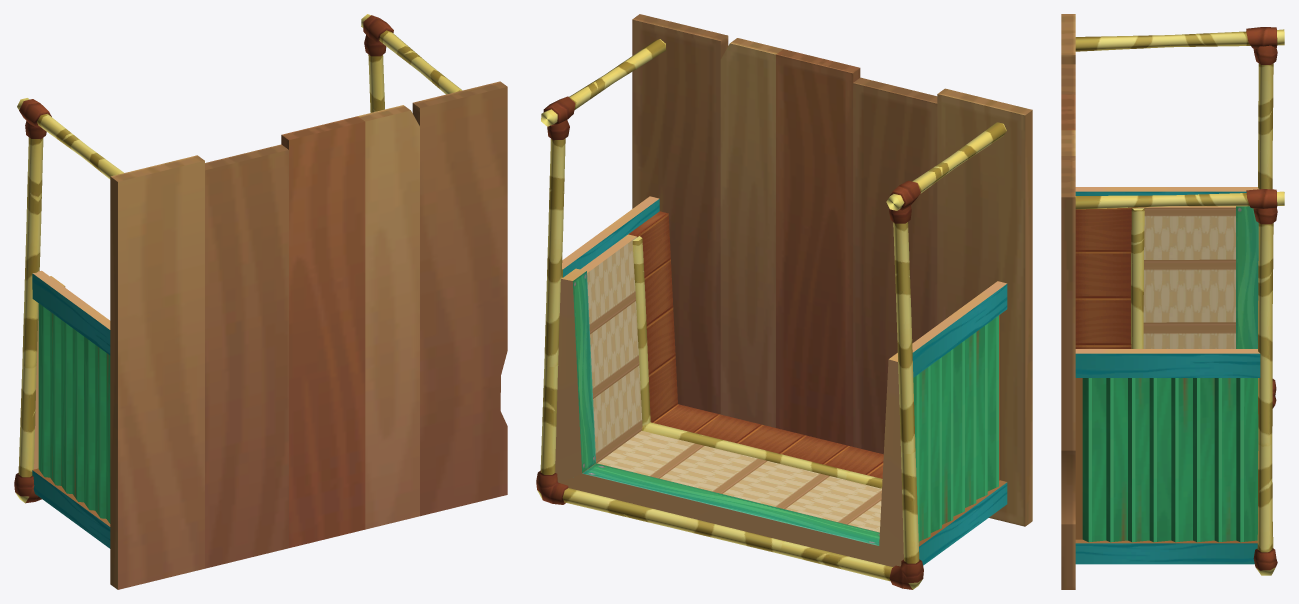
Rendered from BeachShack.fbx.
3 views of the same model, side by side, from view 1: azimuth 30°, elevation 25°; view 2: azimuth 150°, elevation 25°; view 3: azimuth 270°, elevation 25° (orthographic). The views are drawn at different scales.
Parts seen in each view (by area): view 1: BeachShack; view 2: BeachShack; view 3: BeachShack.
Boxes of the visible parts, x1,y1,x2,y2 form: BeachShack: [14, 14, 507, 589]; BeachShack: [536, 14, 1032, 589]; BeachShack: [1061, 14, 1284, 589].
Size of the model in its own units: 600 by 600 by 309.
